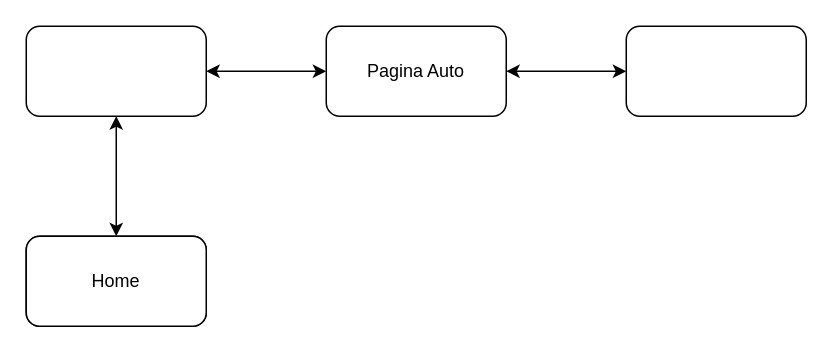
This 833x353 diagram has some shape labels left out. The centre of each missing label's shape, as x and y in pixels:
"Pagina di modifica dell'Auto" belongs at point (715, 70).
"Ricerca Auto" belongs at point (115, 70).
